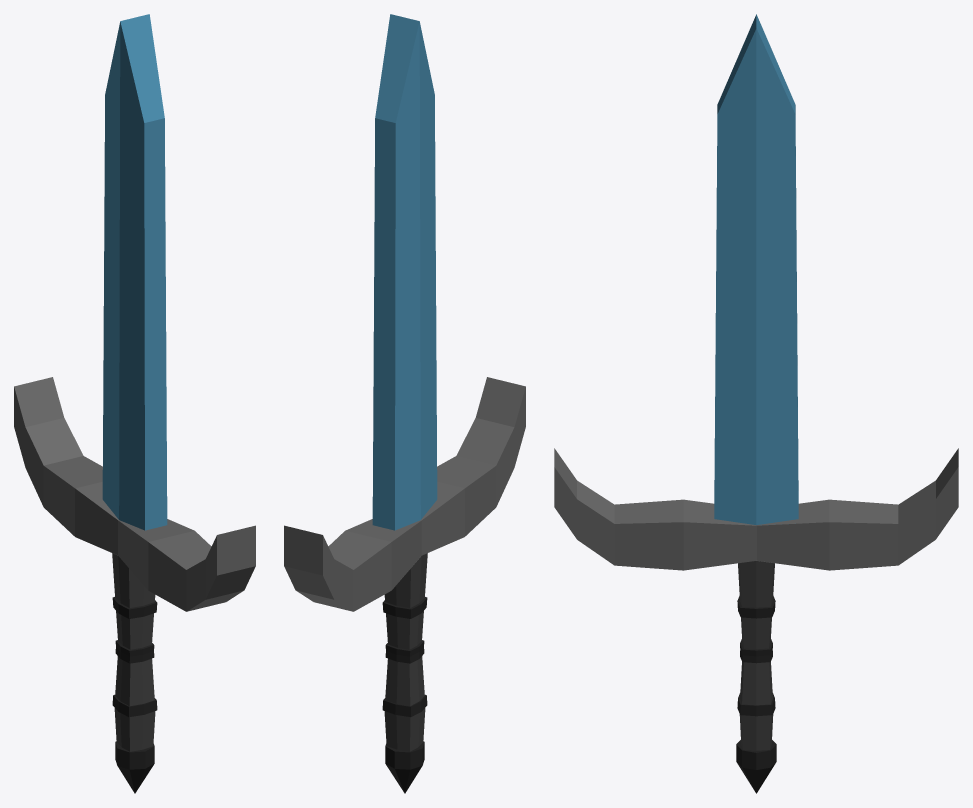
The model's file is espada.fbx.
The picture shows the model from 3 angles, left to right: view 1: azimuth 30°, elevation 25°; view 2: azimuth 150°, elevation 25°; view 3: azimuth 270°, elevation 25°; orthographic projection.
Visible parts, largest first — view 1: Cone; view 2: Cone; view 3: Cone.
Part boxes in pixels (x1,y1,x2,y2): Cone: (14, 14, 255, 793); Cone: (284, 14, 525, 793); Cone: (554, 14, 958, 793).
Size of the model in its own units: 117 by 1865 by 884.
Materials: 1 (1 with a texture image).
